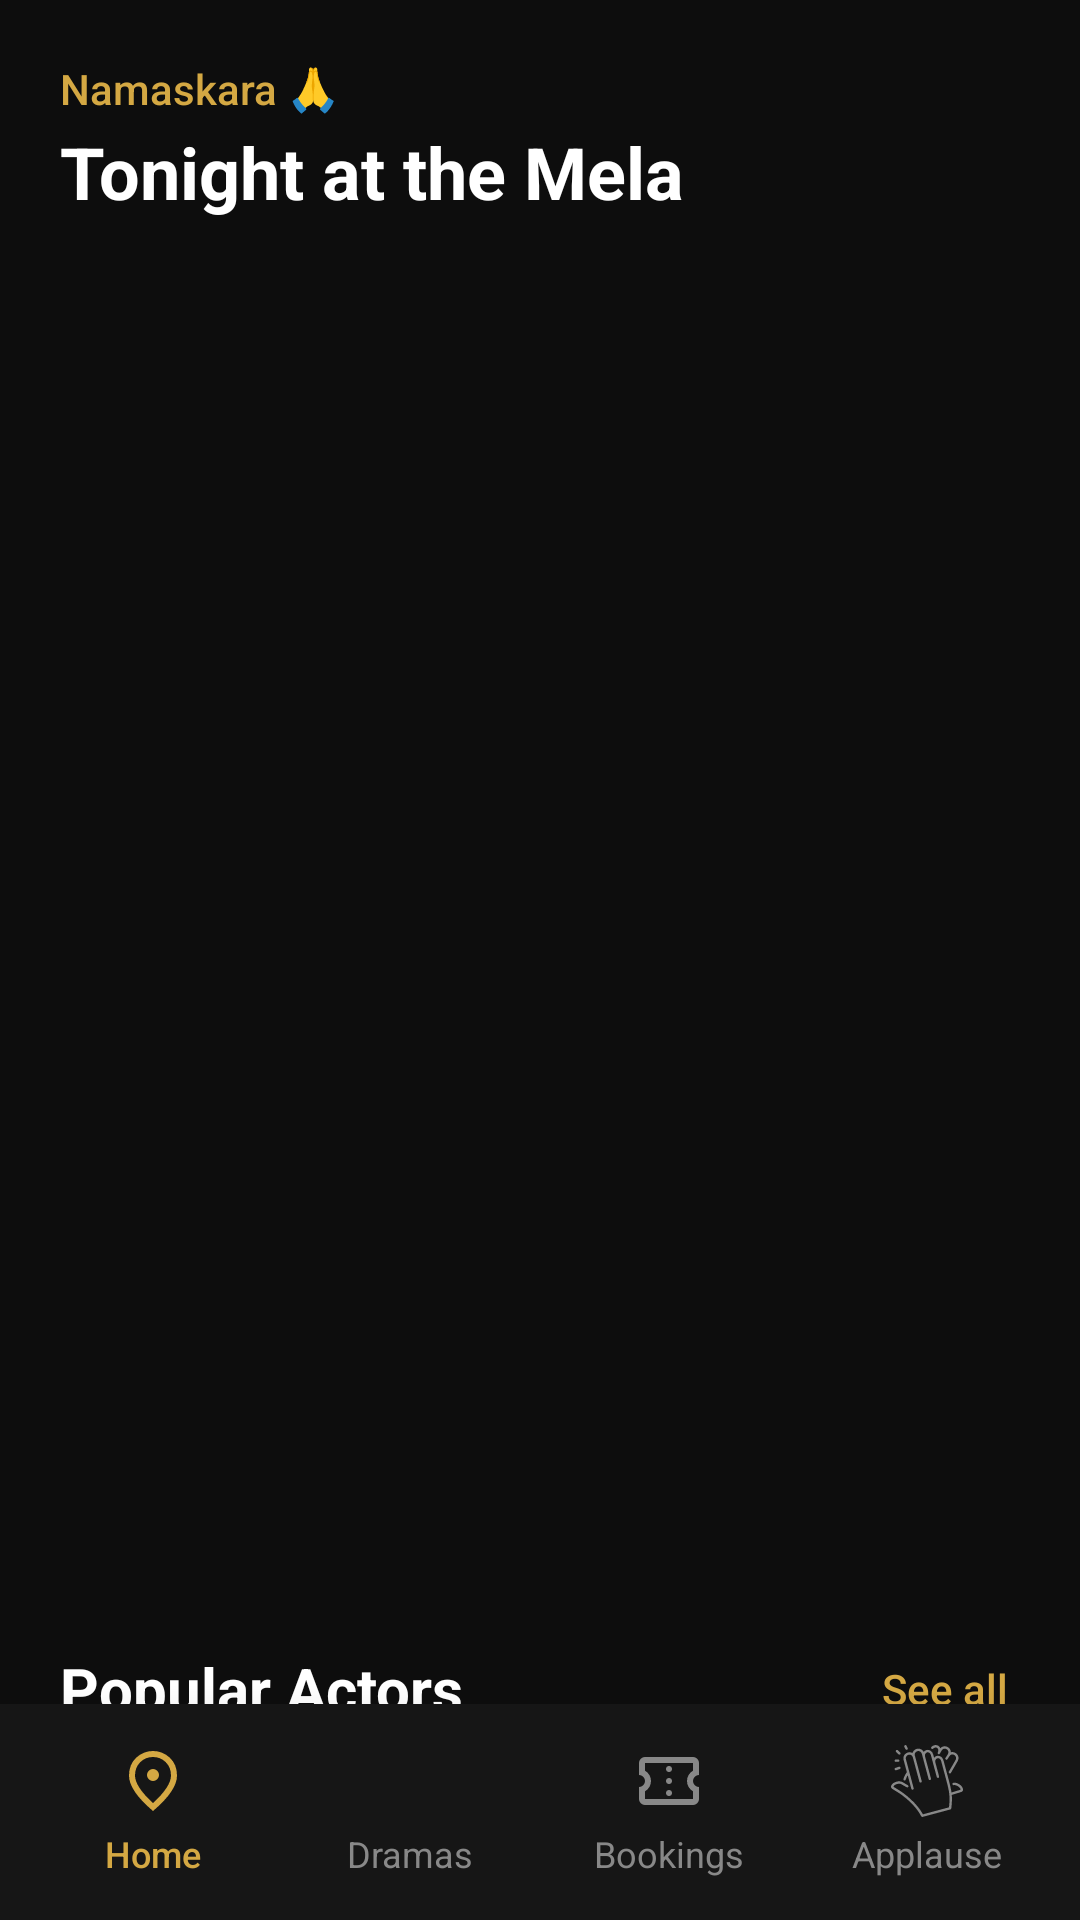

Screen size 1080w x 1920h. Icon name, then its box in pixels as (left=x1, top=y1, right=x2, bottom=y2):
ticket: (left=639, top=1757, right=699, bottom=1805)
